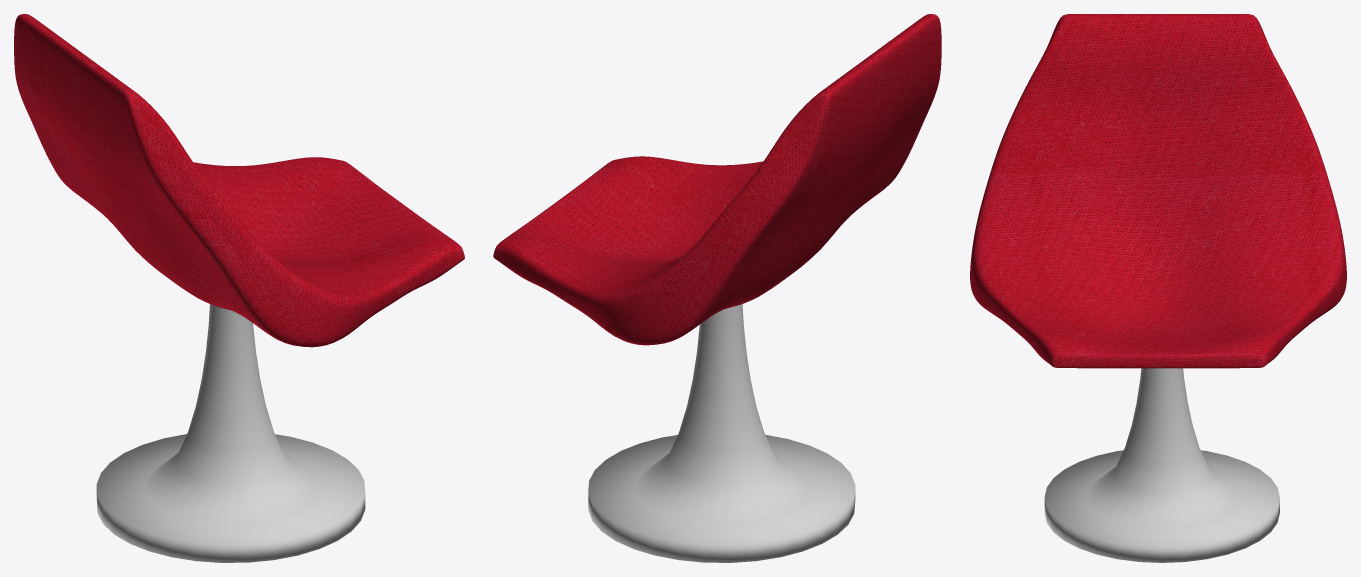
The model's file is Rondo.glb.
3 renders of one model, left to right at view 1: azimuth 30°, elevation 25°; view 2: azimuth 150°, elevation 25°; view 3: azimuth 270°, elevation 25°, orthographic. The views are drawn at different scales.
Visible parts, largest first — view 1: Chair, Circle; view 2: Chair, Circle; view 3: Chair, Circle.
Part boxes in pixels (x1,y1,x2,y2): Chair: (14, 14, 464, 347); Circle: (96, 304, 365, 562); Chair: (493, 14, 941, 345); Circle: (588, 304, 855, 562); Chair: (970, 14, 1346, 368); Circle: (1044, 368, 1279, 562).
Size of the model in its own units: 2.87 by 4.05 by 3.2.
Materials: 2 (2 with a texture image).
